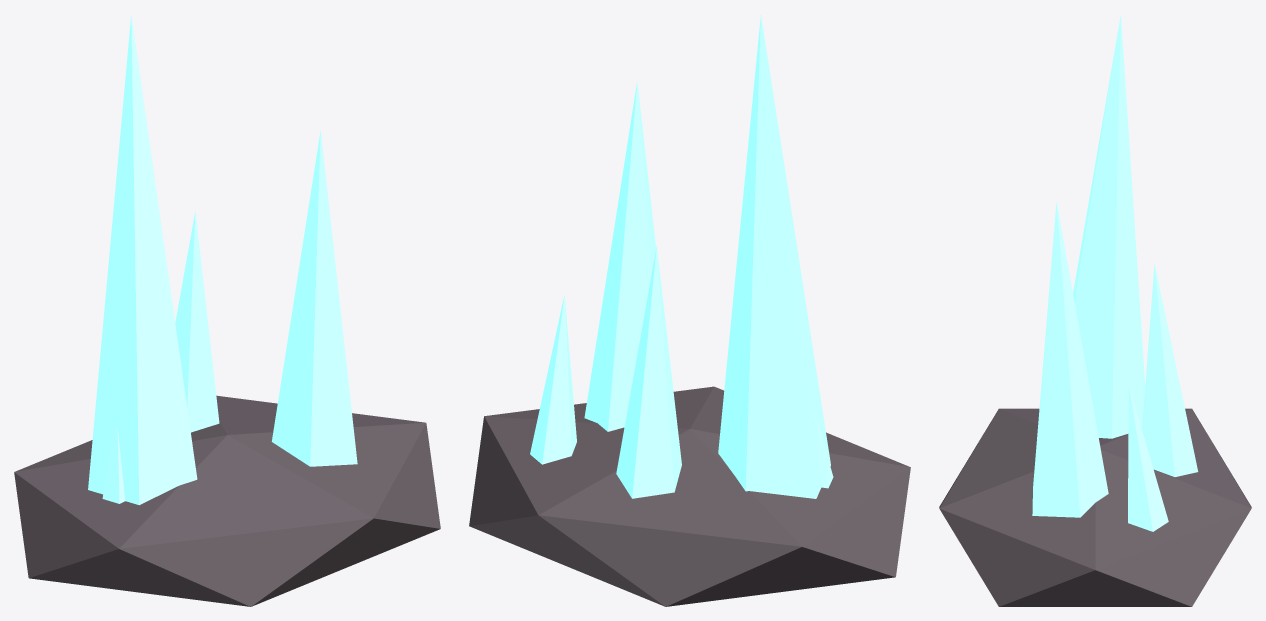
Rendered from crystal_cyan.glb.
3 renders of one model, left to right at view 1: azimuth 30°, elevation 25°; view 2: azimuth 150°, elevation 25°; view 3: azimuth 270°, elevation 25°, orthographic. The views are drawn at different scales.
Parts seen in each view (by area): view 1: crystal_cyan; view 2: crystal_cyan; view 3: crystal_cyan.
Part boxes in pixels (bbox=[...]): crystal_cyan: bbox=[14, 15, 440, 606]; crystal_cyan: bbox=[469, 15, 910, 606]; crystal_cyan: bbox=[939, 15, 1251, 606].
Bounding box in the file's own units: 0.7728 × 1.04 × 0.5716.
